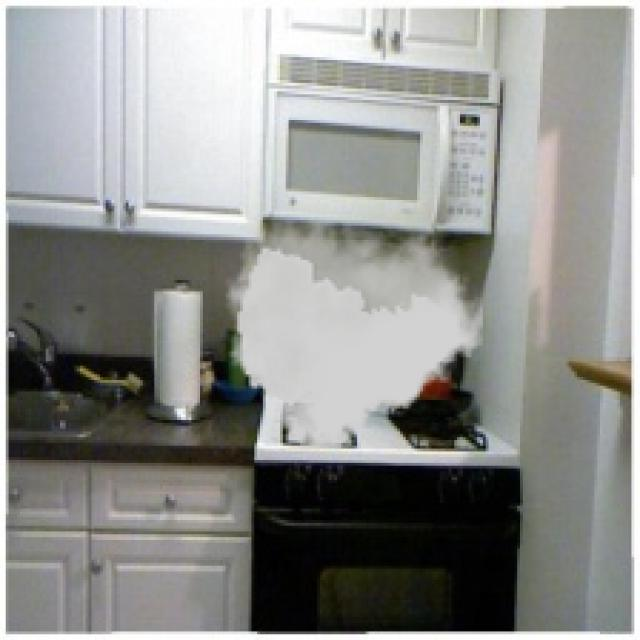smoke: (226, 212, 483, 452)
